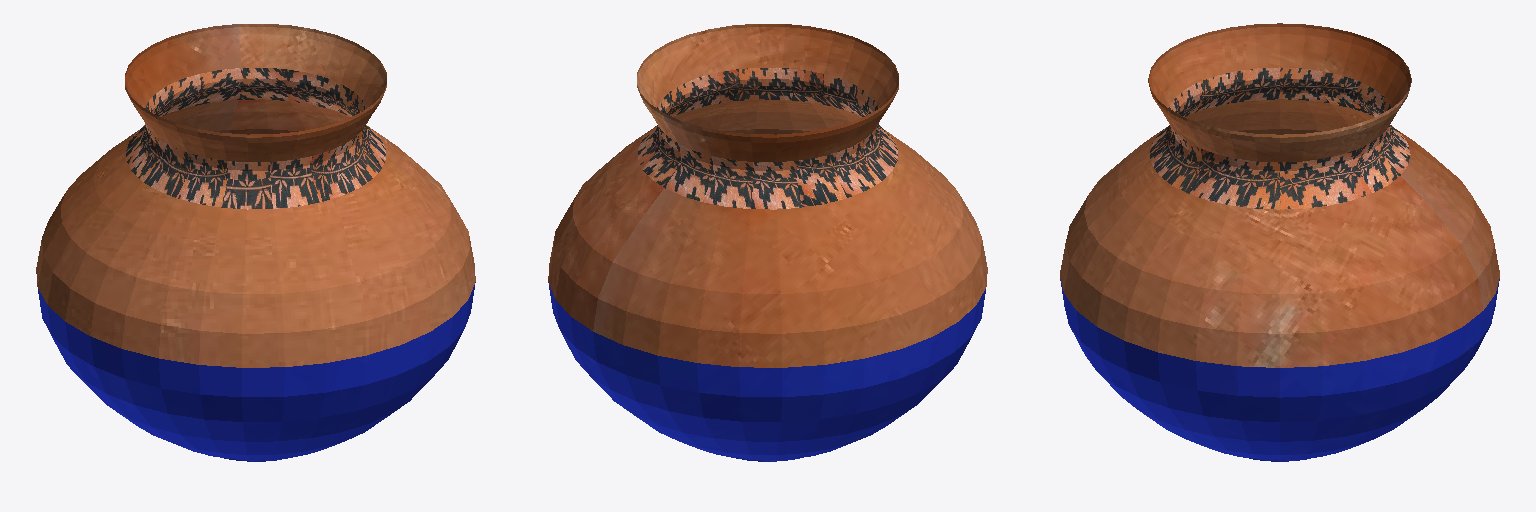
3 views of the same model, side by side, from view 1: azimuth 30°, elevation 25°; view 2: azimuth 150°, elevation 25°; view 3: azimuth 270°, elevation 25° (orthographic).
Visible parts, largest first — view 1: Circle; view 2: Circle; view 3: Circle.
Boxes of the visible parts, <box> form: Circle: <box>36,24,475,461</box>; Circle: <box>548,24,987,461</box>; Circle: <box>1060,23,1499,461</box>.
Size of the model in its own units: 0.948 by 0.84 by 0.948.
Materials: 3 (3 with a texture image).